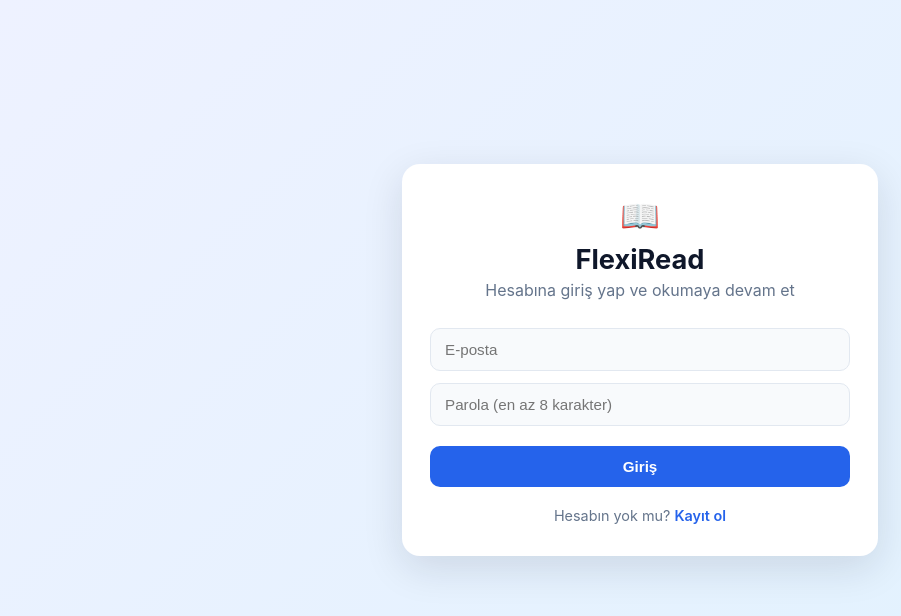
Test case: App auth flow › shows the backend error message when login fails
Type "user@example.com" into the field with placeholder "E-posta" at (640, 350), box [430, 328, 850, 371]
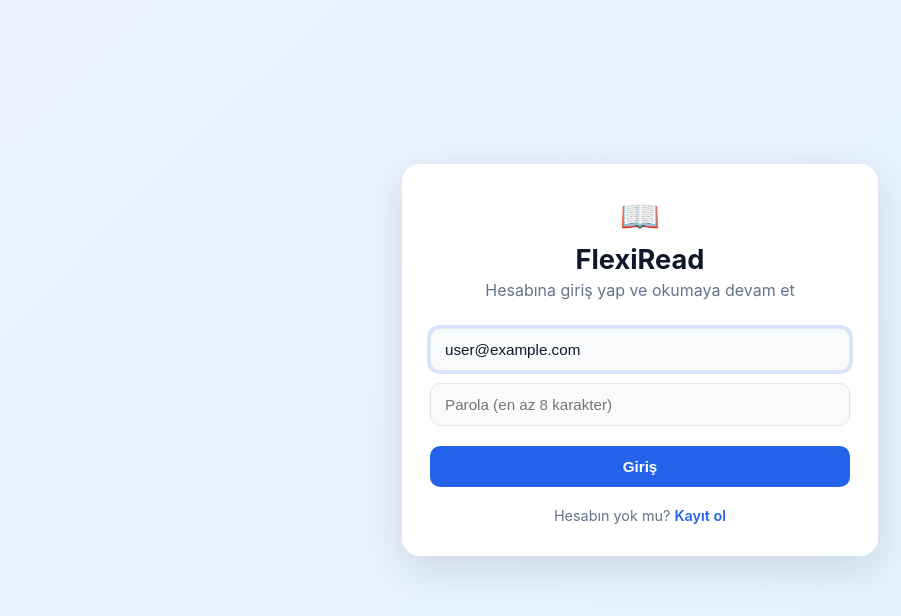
Type "password123" into the password field with placeholder "Parola (en az 8 karakter)" at (640, 404), box [430, 383, 850, 426]
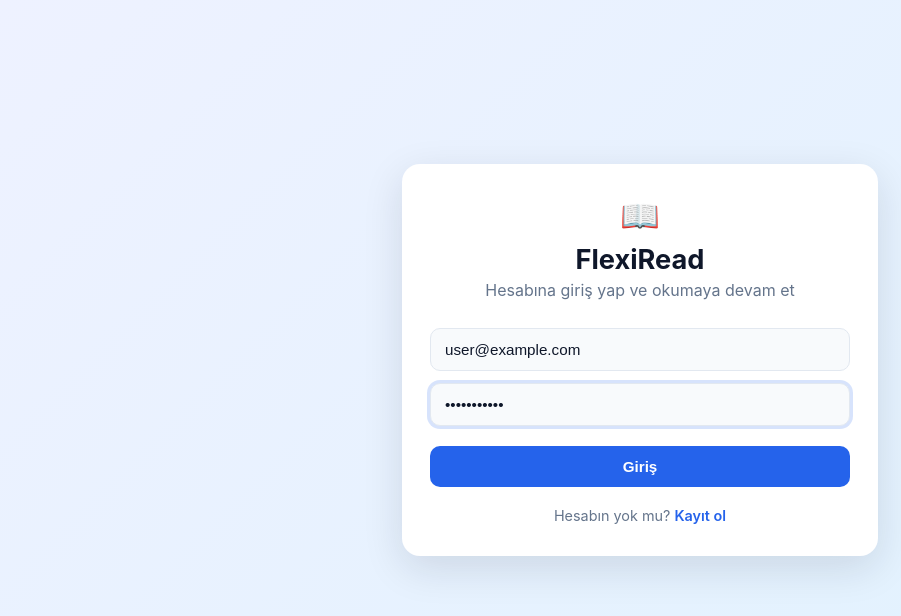
Click the button "Giriş" at (640, 466), box [430, 446, 850, 487]
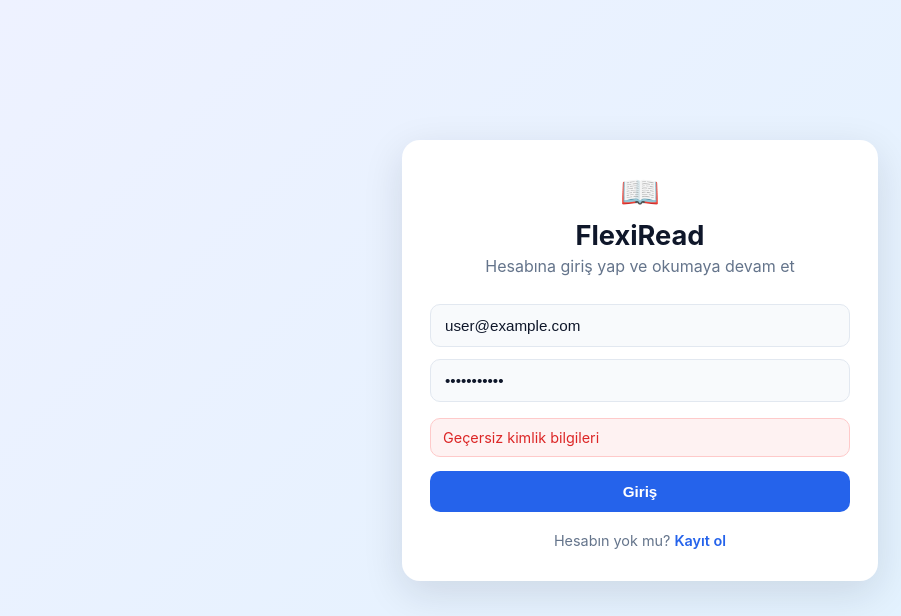
Result: the text "Geçersiz kimlik bilgileri" is shown at [430, 418, 850, 456]
